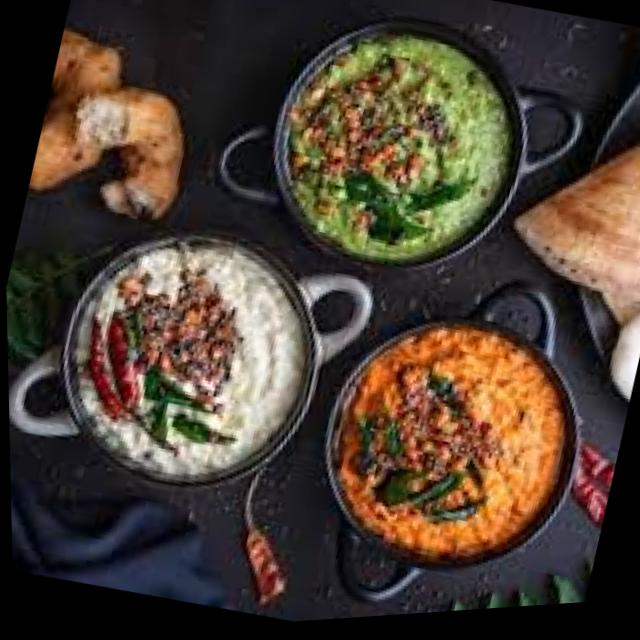DOSA: (522, 148, 640, 323)
GREEN CHUTNEY: (221, 16, 538, 270)
RED CHUTNEY: (312, 306, 589, 580)
WHITE CHUTNEY: (47, 218, 337, 497)
